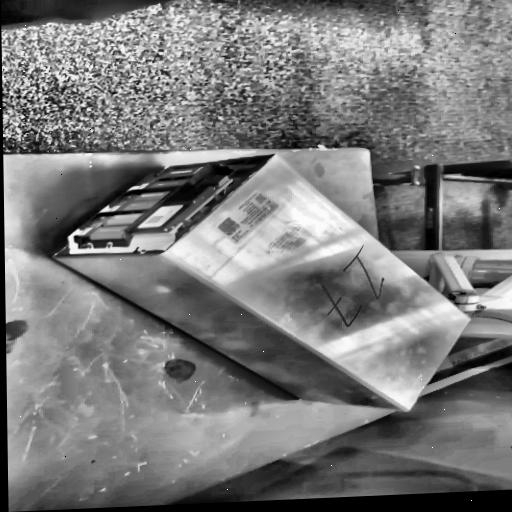battery_module: (47, 155, 468, 410)
